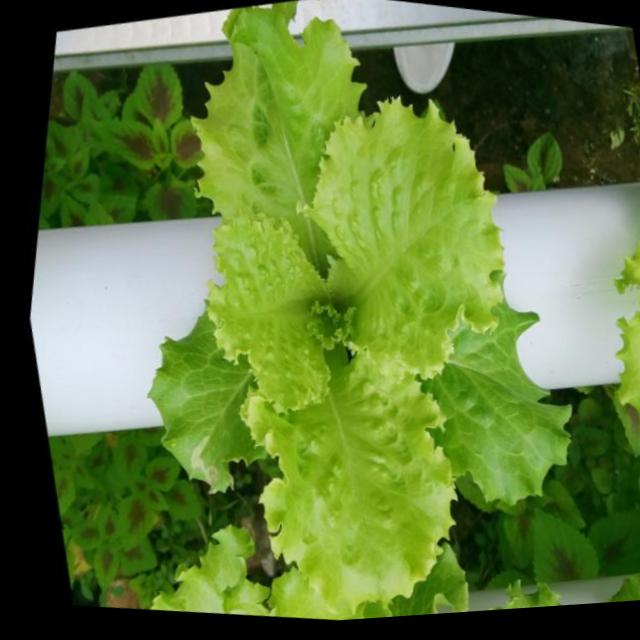Baby: (149, 1, 568, 574)
